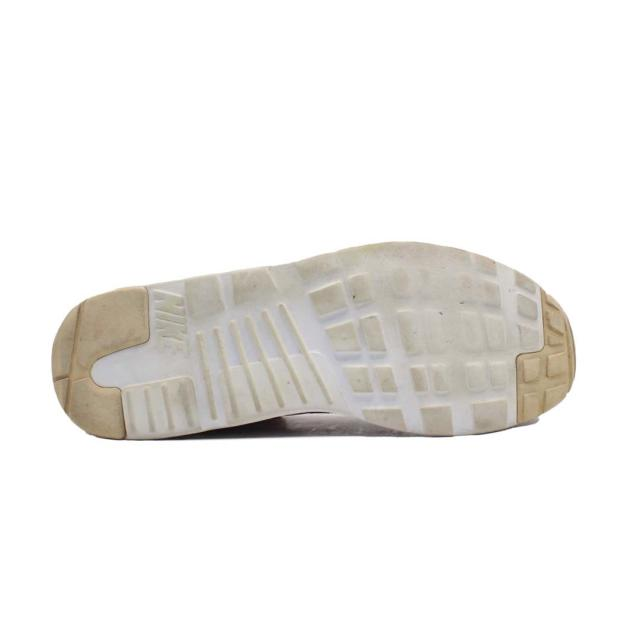outersole: (53, 240, 573, 443)
